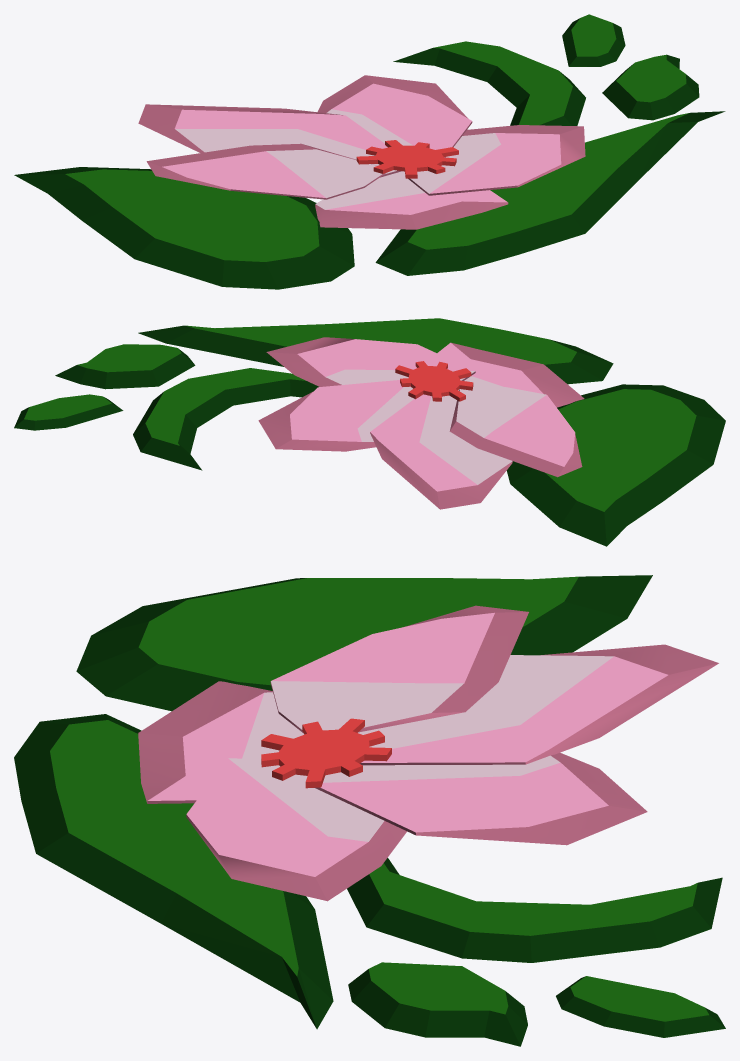
File: Taiwan - Hakka Tung3.FBX
The picture shows the model from 3 angles, top to bottom: view 1: azimuth 30°, elevation 25°; view 2: azimuth 150°, elevation 25°; view 3: azimuth 270°, elevation 25°; orthographic projection. The views are drawn at different scales.
Visible parts, largest first — view 1: Line007, Line008, Box013, Box012, Box010, Line009, Box011, Box009, Line010, Line011, Cylinder002; view 2: Line007, Line008, Box012, Box013, Line009, Box011, Box010, Line010, Box009, Line011, Cylinder002; view 3: Line007, Line008, Box012, Line009, Box013, Box011, Box010, Box009, Line010, Line011, Cylinder002.
Boxes of the visible parts, x1,y1,x2,y2 form: Line007: (14, 167, 354, 289); Line008: (375, 111, 725, 275); Box013: (146, 143, 385, 199); Box012: (138, 104, 401, 177); Box010: (408, 125, 585, 195); Line009: (393, 41, 585, 125); Box011: (317, 75, 472, 157); Box009: (315, 171, 508, 229); Line010: (602, 54, 699, 120); Line011: (562, 14, 625, 66); Cylinder002: (356, 140, 458, 178); Line007: (506, 384, 725, 546); Line008: (138, 318, 613, 384); Box012: (370, 389, 512, 509); Box013: (449, 386, 582, 477); Line009: (133, 368, 318, 470); Box011: (258, 380, 414, 451); Box010: (266, 337, 475, 386); Line010: (55, 344, 195, 389); Box009: (437, 342, 584, 407); Line011: (14, 394, 123, 430); Cylinder002: (395, 361, 473, 401); Line007: (76, 575, 652, 711); Line008: (14, 714, 333, 1029); Box012: (358, 644, 718, 765); Line009: (347, 858, 722, 962); Box013: (270, 605, 528, 733); Box011: (314, 752, 647, 845); Box010: (186, 758, 406, 901); Box009: (138, 681, 304, 803); Line010: (348, 962, 527, 1046); Line011: (556, 976, 725, 1037); Cylinder002: (261, 718, 391, 788).
Bounding box in the file's own units: 5198 × 3361 × 246.
